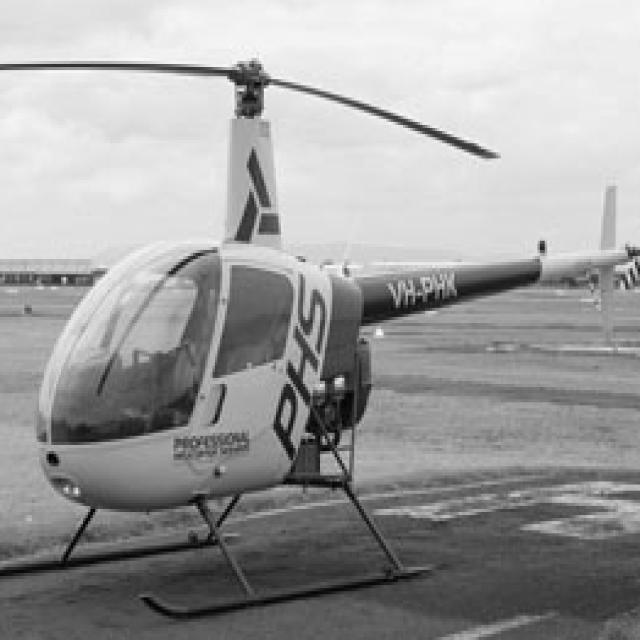helicopter: (1, 53, 640, 620)
